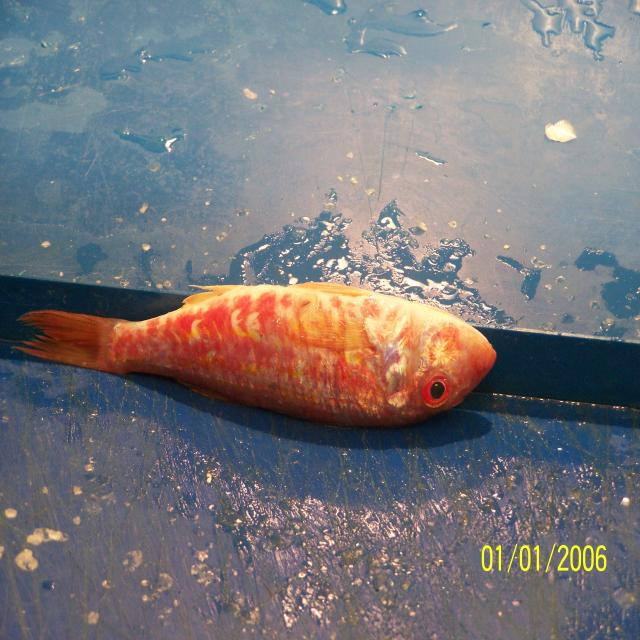Red-Mullet-kefal-: (5, 284, 497, 431)
